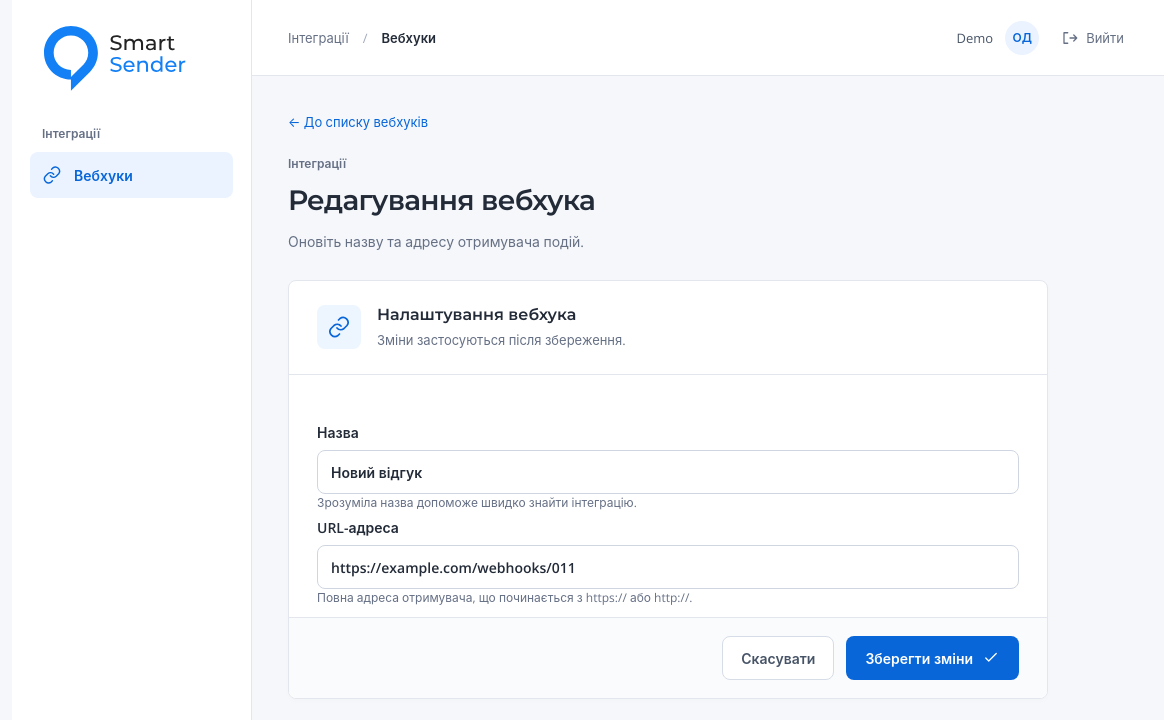
Test: EditWebhookActor component › falls back to the list when the editor is opened directly and cancel is used
This screenshot has width=1164, height=720.
Check: the field labelled "Назва Зрозуміла назва допоможе швидко знайти інтеграцію." is shown, box [317,450,1019,494]
Click the link "Скасувати" at (778, 658), box [722,636,834,680]
(page scrolled)
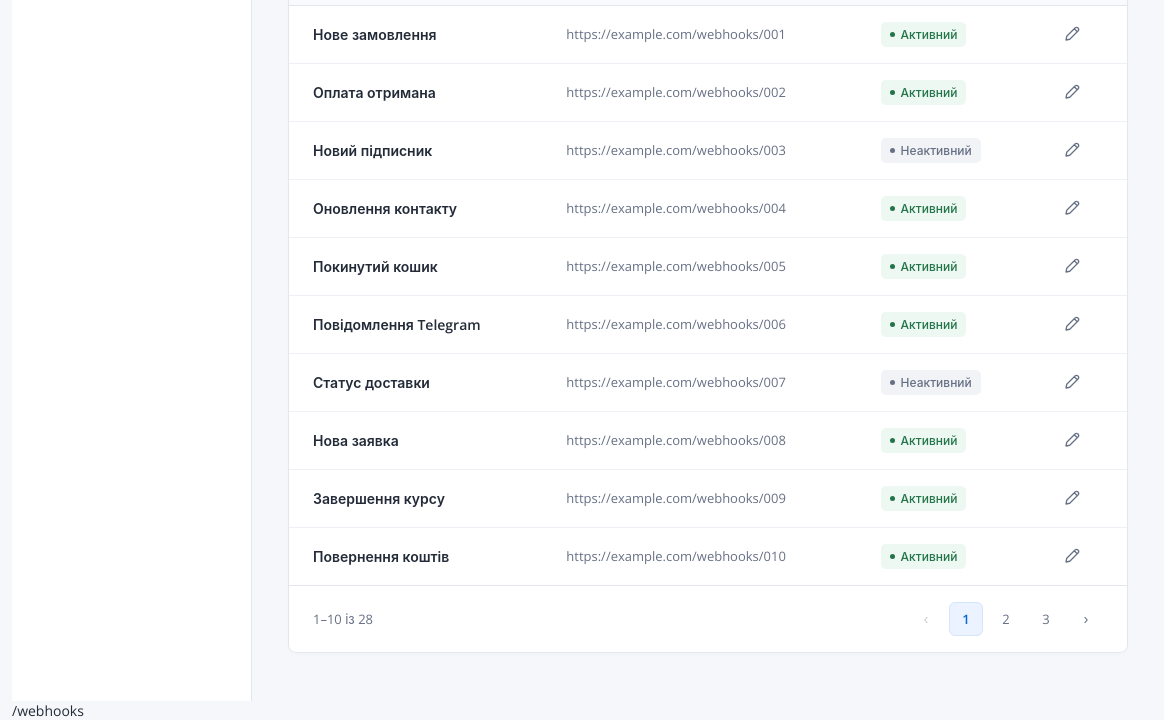
Check: the text named "location" reads "/webhooks", box [12,701,84,719]
